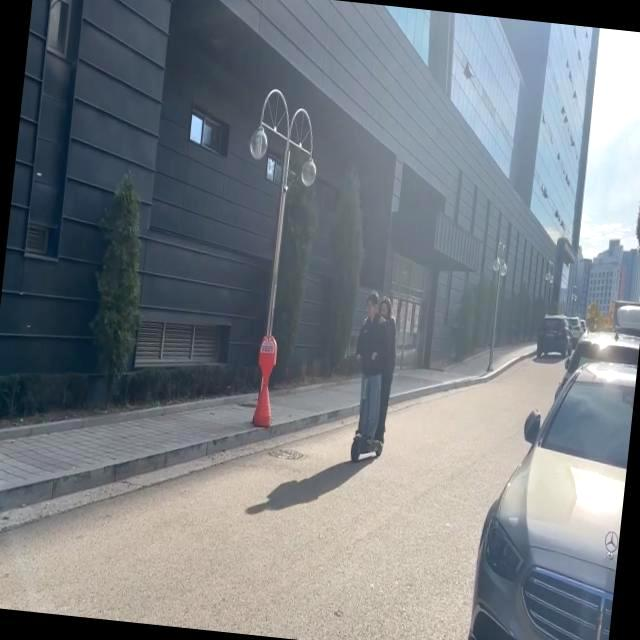bare_head: (358, 289, 380, 322), (373, 294, 397, 321)
human: (352, 290, 377, 448), (375, 296, 390, 444)
kickboard: (348, 431, 392, 462)
